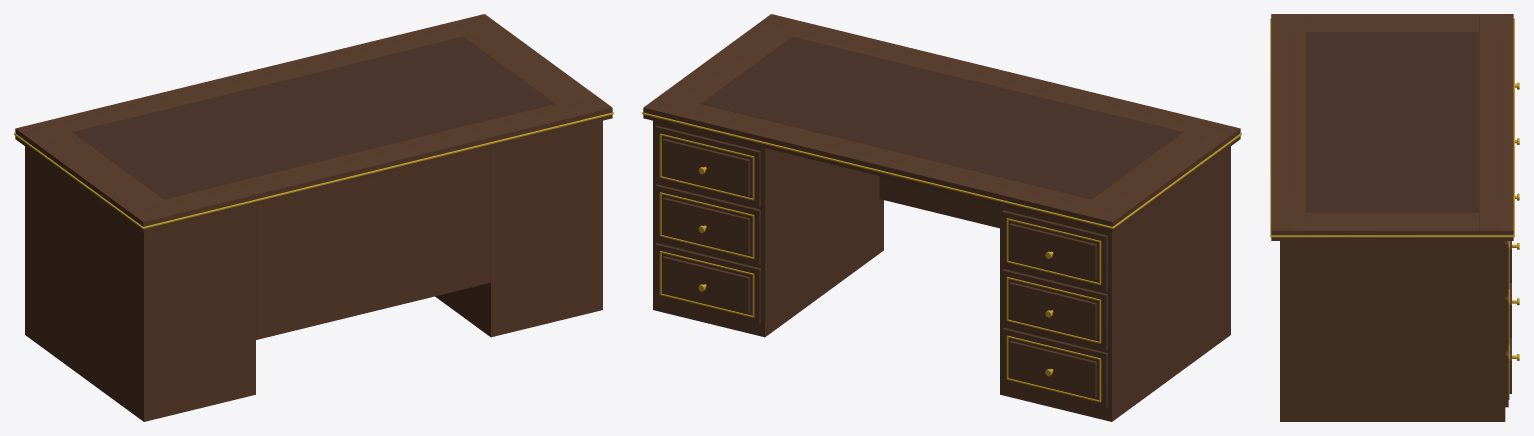
The model's file is prop_desk_exec.glb.
3 renders of one model, left to right at view 1: azimuth 30°, elevation 25°; view 2: azimuth 150°, elevation 25°; view 3: azimuth 270°, elevation 25°, orthographic. The views are drawn at different scales.
Parts seen in each view (by area): view 1: Desk; view 2: Desk; view 3: Desk.
Boxes of the visible parts, box(x1,y1,x2,y2) form: Desk: box(14, 14, 613, 421); Desk: box(642, 14, 1241, 421); Desk: box(1270, 14, 1519, 421).
Size of what is drawn, in the model's own units: 1.81 by 0.75 by 0.875.
